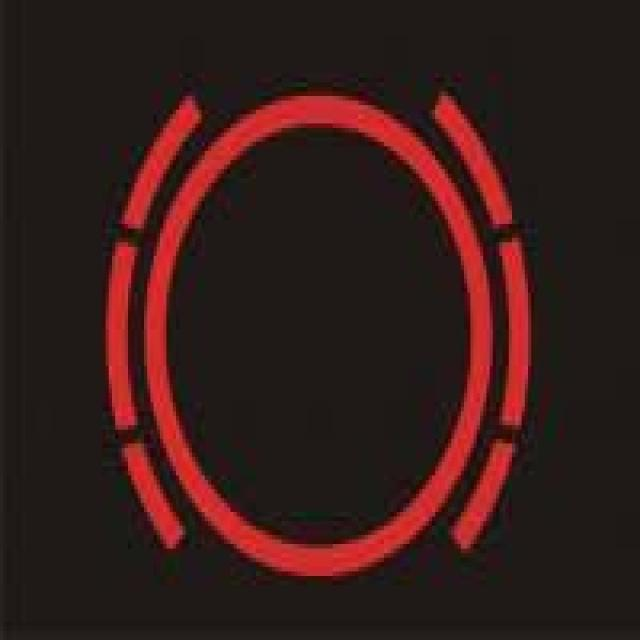kontrolka: (43, 48, 600, 619)
